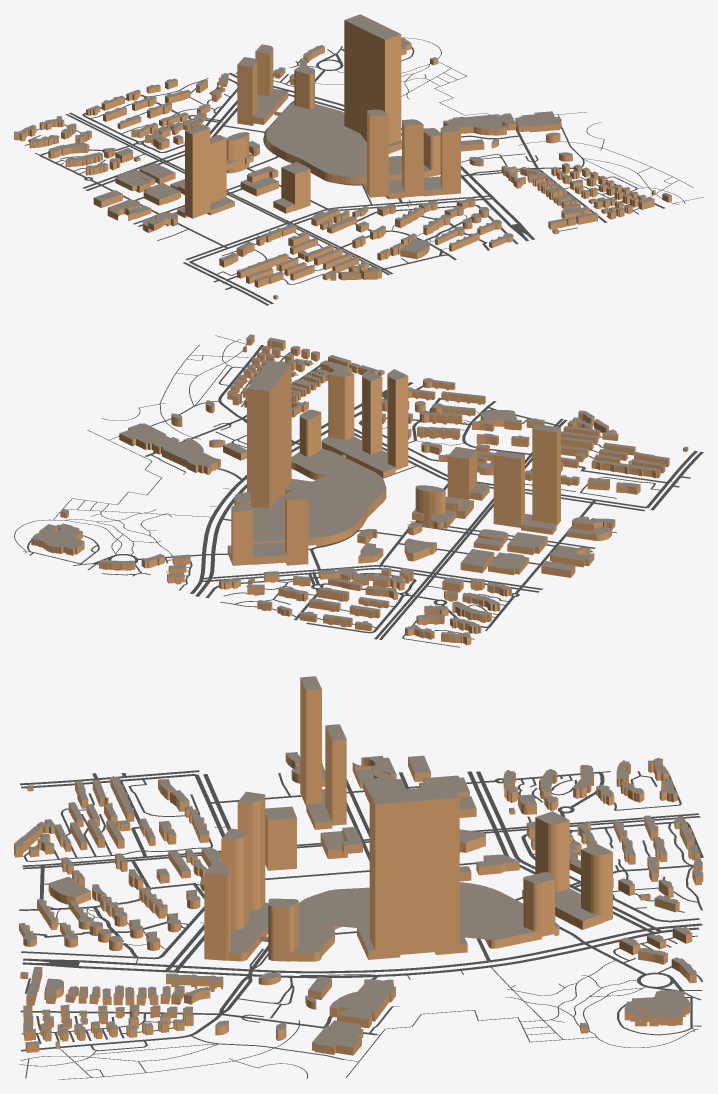
File: map.fbx
The picture shows the model from 3 angles, top to bottom: view 1: azimuth 30°, elevation 25°; view 2: azimuth 150°, elevation 25°; view 3: azimuth 270°, elevation 25°; orthographic projection. The views are drawn at different scales.
Visible parts, largest first — view 1: map.osm_buildings, map.osm_roads_secondary, map.osm_roads_tertiary, map.osm_roads_service, map.osm_roads_residential, map.osm_paths_footway, map.osm_roads_unclassified, map.osm_roads_primary; view 2: map.osm_buildings, map.osm_roads_secondary, map.osm_roads_tertiary, map.osm_roads_service, map.osm_paths_footway, map.osm_roads_residential, map.osm_roads_primary, map.osm_roads_unclassified; view 3: map.osm_buildings, map.osm_roads_service, map.osm_roads_primary, map.osm_roads_tertiary, map.osm_roads_secondary, map.osm_roads_residential, map.osm_paths_footway, map.osm_roads_unclassified.
Part boxes in pixels (x1,y1,x2,y2): map.osm_buildings: [14, 14, 671, 299]; map.osm_roads_secondary: [82, 100, 493, 305]; map.osm_roads_tertiary: [65, 112, 664, 275]; map.osm_roads_service: [24, 46, 639, 284]; map.osm_roads_residential: [39, 78, 518, 282]; map.osm_paths_footway: [130, 37, 703, 283]; map.osm_roads_unclassified: [133, 53, 607, 289]; map.osm_roads_primary: [229, 72, 534, 241]; map.osm_buildings: [31, 334, 688, 645]; map.osm_roads_secondary: [201, 428, 703, 592]; map.osm_roads_tertiary: [218, 345, 595, 639]; map.osm_roads_service: [27, 352, 661, 647]; map.osm_paths_footway: [14, 335, 678, 596]; map.osm_roads_residential: [206, 385, 679, 633]; map.osm_roads_primary: [190, 382, 413, 596]; map.osm_roads_unclassified: [93, 360, 690, 570]; map.osm_buildings: [14, 676, 703, 1055]; map.osm_roads_service: [21, 771, 702, 1059]; map.osm_roads_primary: [22, 923, 702, 978]; map.osm_roads_tertiary: [20, 779, 700, 1051]; map.osm_roads_secondary: [20, 770, 661, 971]; map.osm_roads_residential: [19, 771, 703, 959]; map.osm_paths_footway: [19, 776, 698, 1079]; map.osm_roads_unclassified: [20, 772, 683, 1035].
Size of the model in its own units: 133707 by 31108 by 123720.
